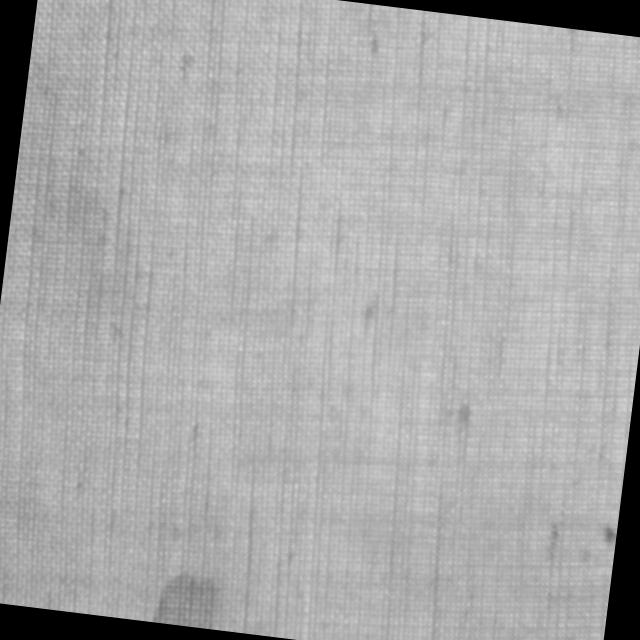oil spot: (152, 564, 226, 628)
